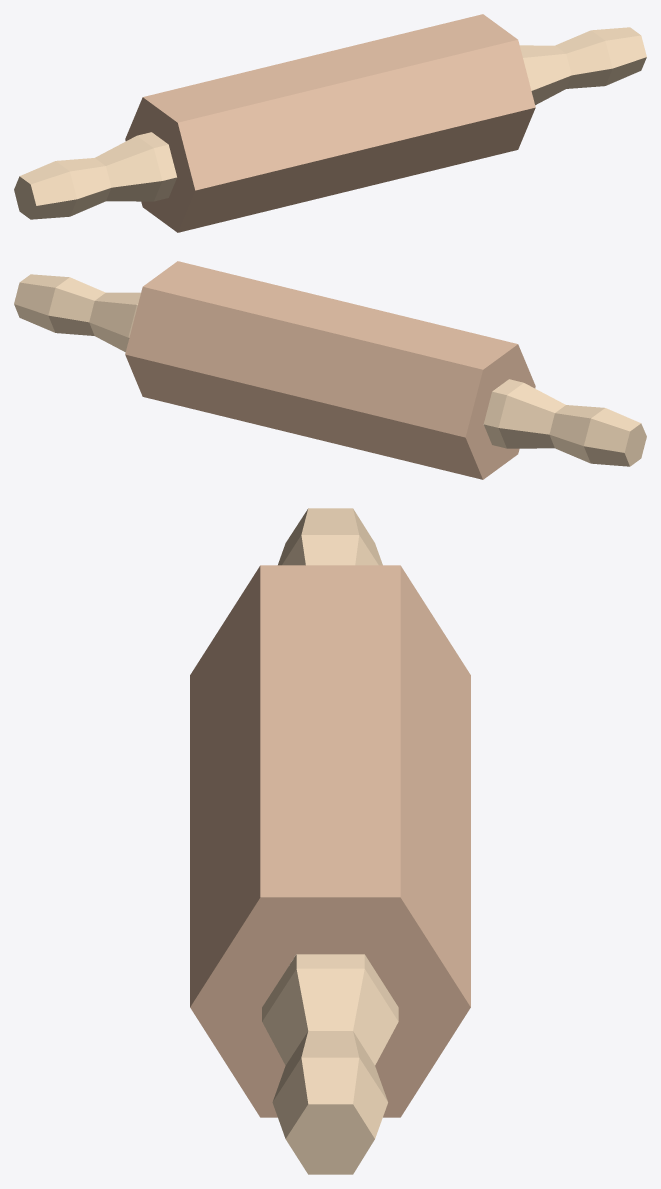
Rendered from rolling-pin.glb.
3 renders of one model, top to bottom at view 1: azimuth 30°, elevation 25°; view 2: azimuth 150°, elevation 25°; view 3: azimuth 270°, elevation 25°, orthographic. The views are drawn at different scales.
Visible parts, largest first — view 1: rollingPin; view 2: rollingPin; view 3: rollingPin.
Boxes of the visible parts, x1,y1,x2,y2 form: rollingPin: (14,14,646,232); rollingPin: (14,261,646,479); rollingPin: (190,508,470,1174).
Size of the model in its own units: 0.8137 by 0.1402 by 0.162.
